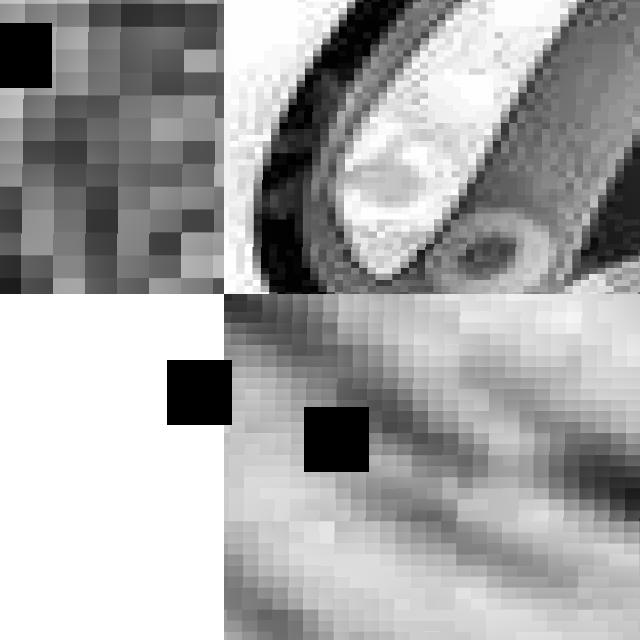crab: (224, 0, 640, 294)
fish: (224, 294, 640, 640), (0, 294, 224, 640), (0, 0, 224, 294)
